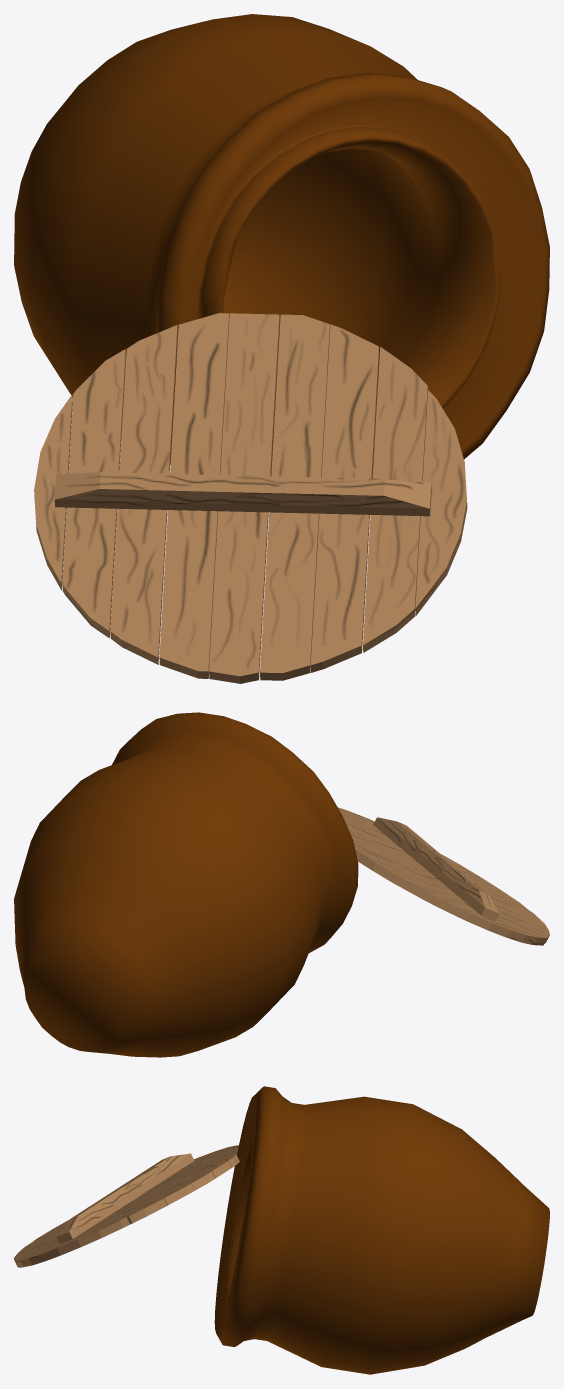
Rendered from bosu_tubo.fbx.
3 renders of one model, top to bottom at view 1: azimuth 30°, elevation 25°; view 2: azimuth 150°, elevation 25°; view 3: azimuth 270°, elevation 25°, orthographic. The views are drawn at different scales.
Parts seen in each view (by area): view 1: polySurface1, polySurface2; view 2: polySurface1, polySurface2; view 3: polySurface1, polySurface2.
Boxes of the visible parts, x1,y1,x2,y2 form: polySurface1: (14, 14, 549, 478); polySurface2: (34, 313, 467, 683); polySurface1: (14, 712, 358, 1057); polySurface2: (338, 807, 549, 945); polySurface1: (214, 1086, 549, 1374); polySurface2: (14, 1145, 239, 1267).
Bounding box in the file's own units: 0.1466 × 0.1066 × 0.1971.
